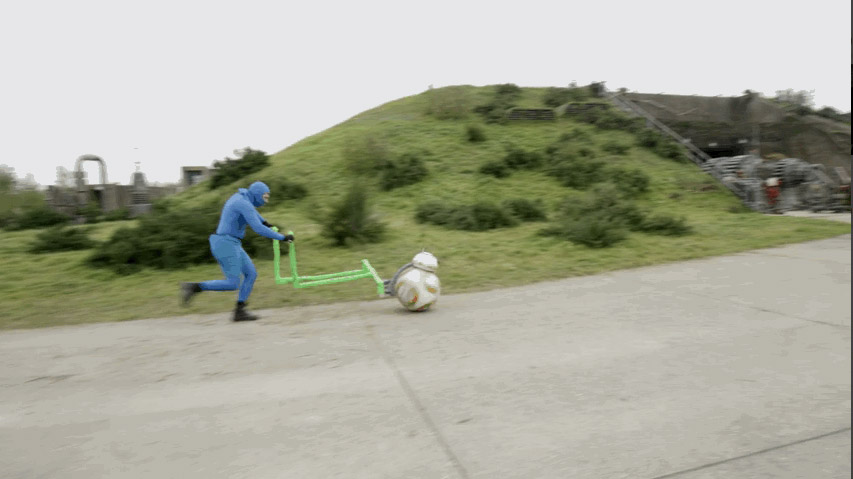bb8: (393, 251, 440, 312)
